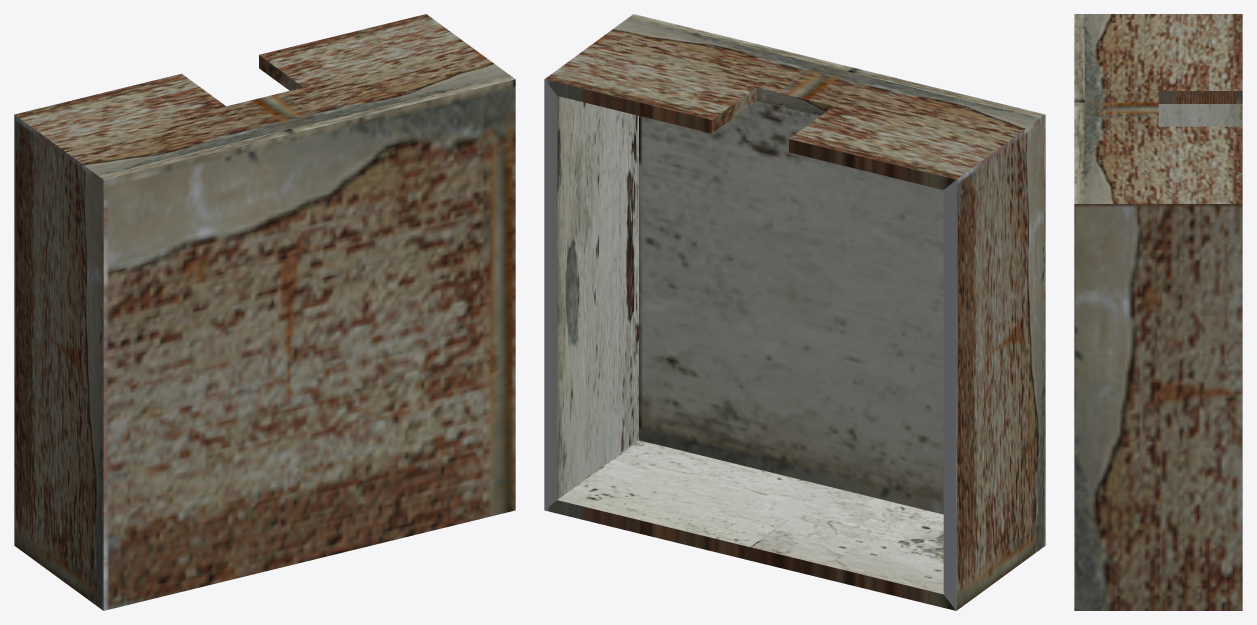
The model's file is 9x9Northdoor_wtf.obj.
3 views of the same model, side by side, from view 1: azimuth 30°, elevation 25°; view 2: azimuth 150°, elevation 25°; view 3: azimuth 270°, elevation 25° (orthographic). The views are drawn at different scales.
Visible parts, largest first — view 1: group2; view 2: group2; view 3: group2.
Boxes of the visible parts, <box> form: group2: <box>14,14,515,610</box>; group2: <box>544,14,1045,610</box>; group2: <box>1074,14,1242,610</box>.
Size of the model in its own units: 660 by 660 by 248.
